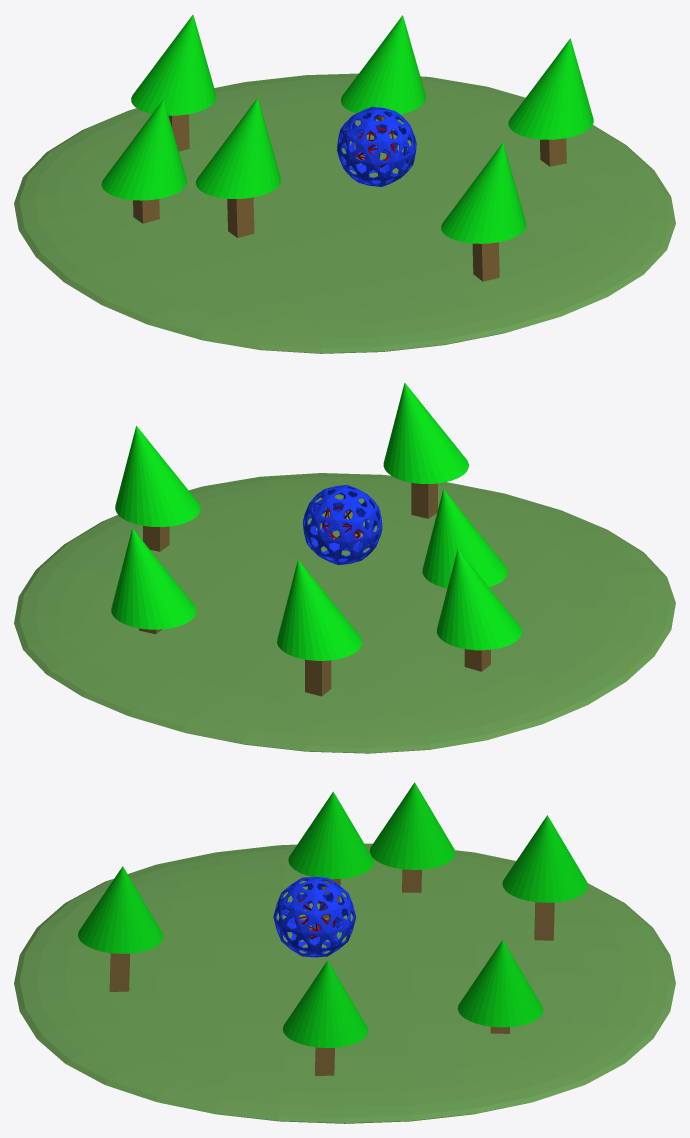
File: simple_scene.glb
3 renders of one model, top to bottom at view 1: azimuth 30°, elevation 25°; view 2: azimuth 150°, elevation 25°; view 3: azimuth 270°, elevation 25°, orthographic.
Parts seen in each view (by area): view 1: Cube, tree.003, tree.005, tree.004, tree, tree.001, tree.002, Icosphere; view 2: Cube, tree.001, tree.005, tree.004, tree, tree.002, Icosphere, tree.003; view 3: Cube, tree.001, tree.005, tree.004, Icosphere, tree, tree.002, tree.003.
Boxes of the visible parts, x1=… form: Cube: x1=14, y1=73, x2=675, y2=353; tree.003: x1=196, y1=97, x2=280, y2=237; tree.005: x1=441, y1=142, x2=526, y2=281; tree.004: x1=508, y1=38, x2=593, y2=166; tree: x1=101, y1=99, x2=186, y2=223; tree.001: x1=131, y1=14, x2=216, y2=151; tree.002: x1=340, y1=15, x2=425, y2=121; Icosphere: x1=337, y1=106, x2=416, y2=186; Cube: x1=14, y1=473, x2=675, y2=753; tree.001: x1=277, y1=559, x2=362, y2=696; tree.005: x1=383, y1=383, x2=468, y2=518; tree.004: x1=115, y1=426, x2=200, y2=551; tree: x1=436, y1=549, x2=521, y2=671; tree.002: x1=111, y1=528, x2=196, y2=634; Icosphere: x1=303, y1=485, x2=382, y2=565; tree.003: x1=422, y1=489, x2=507, y2=588; Cube: x1=14, y1=843, x2=675, y2=1123; tree.001: x1=502, y1=815, x2=587, y2=940; tree.005: x1=78, y1=866, x2=163, y2=991; tree.004: x1=283, y1=960, x2=368, y2=1075; Icosphere: x1=273, y1=876, x2=356, y2=957; tree: x1=369, y1=782, x2=455, y2=892; tree.002: x1=457, y1=940, x2=543, y2=1033; tree.003: x1=288, y1=791, x2=373, y2=918.
Bounding box in the file's own units: 33.58 × 9.43 × 33.58.
